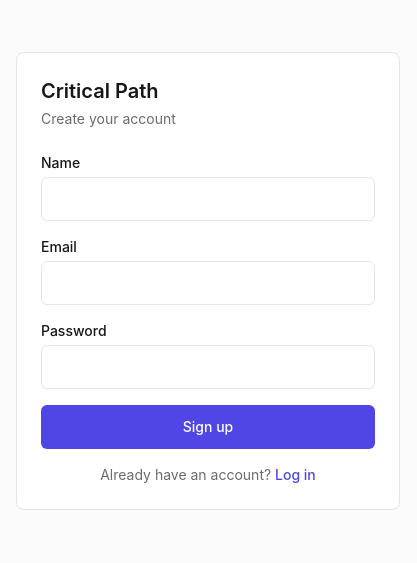
Test: Signup › shows required errors and skips the request when fields are empty
The width and height of the screenshot is (417, 563).
Click the button "Sign up" at (208, 427), box left=41, top=405, right=375, bottom=449
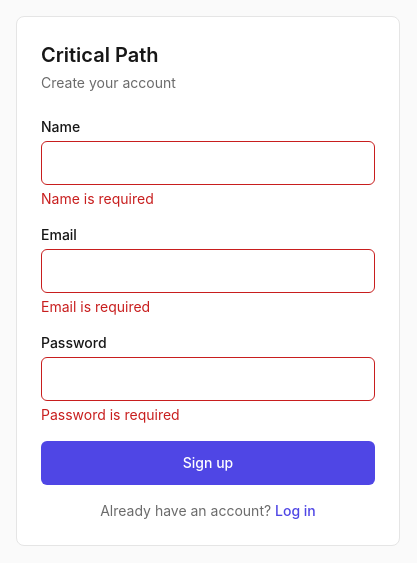
Expected: the text "Name is required" is shown, left=41, top=190, right=154, bottom=207
Expected: the text "Email is required" is shown, left=41, top=298, right=150, bottom=315
Expected: the text "Password is required" is shown, left=41, top=406, right=180, bottom=423
